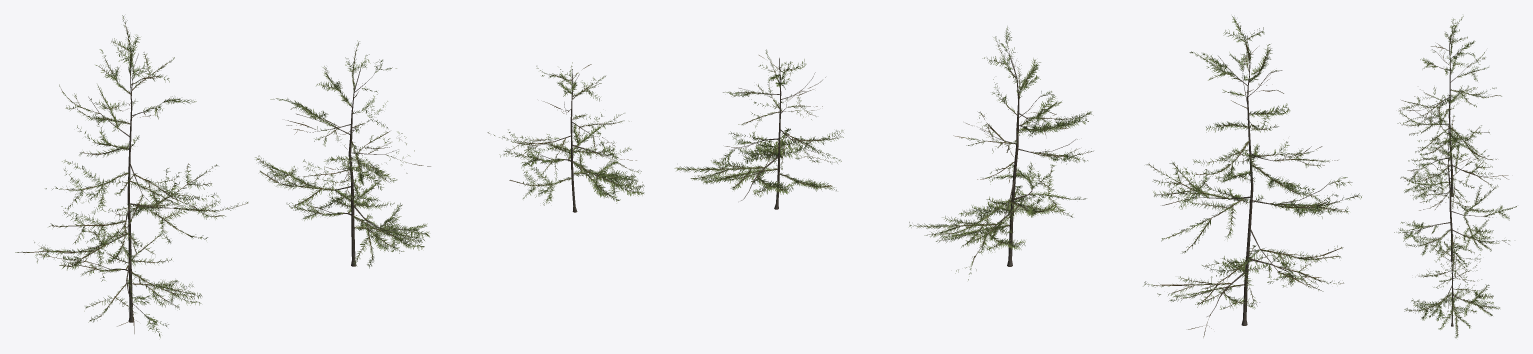
The model's file is fir_sapling-game.gltf.
3 views of the same model, side by side, from view 1: azimuth 30°, elevation 25°; view 2: azimuth 150°, elevation 25°; view 3: azimuth 270°, elevation 25° (orthographic). The views are drawn at different scales.
Visible parts, largest first — view 1: fir_sapling_a, fir_sapling_b, fir_sapling_c; view 2: fir_sapling_a, fir_sapling_b, fir_sapling_c; view 3: fir_sapling_a, fir_sapling_b, fir_sapling_c.
Part boxes in pixels (x1,y1,x2,y2): fir_sapling_a: (15,15,248,337); fir_sapling_b: (255,40,430,268); fir_sapling_c: (487,62,644,212); fir_sapling_a: (1143,16,1361,337); fir_sapling_b: (909,26,1093,280); fir_sapling_c: (674,49,843,209); fir_sapling_a: (1397,16,1508,208); fir_sapling_b: (1394,129,1516,273); fir_sapling_c: (1404,226,1499,338).
Size of the model in its own units: 2.74 by 1.3 by 0.8119.
2 materials, 2 textured.
